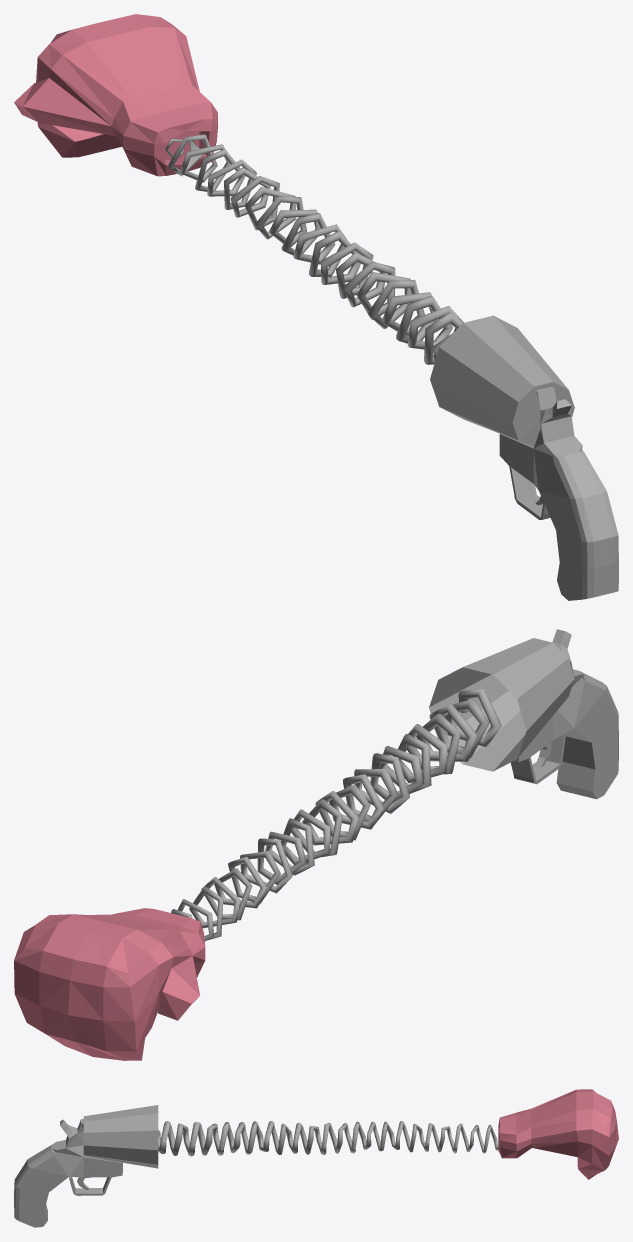
File: BoxingGlove.fbx
3 renders of one model, top to bottom at view 1: azimuth 30°, elevation 25°; view 2: azimuth 150°, elevation 25°; view 3: azimuth 270°, elevation 25°, orthographic. The views are drawn at different scales.
Parts seen in each view (by area): view 1: pCylinder1, pCube1, extrudedSurface2; view 2: pCube1, pCylinder1, extrudedSurface2; view 3: pCylinder1, pCube1, extrudedSurface2.
Boxes of the visible parts, x1,y1,x2,y2 form: pCylinder1: (430,315,618,600); pCube1: (14,14,217,176); extrudedSurface2: (165,134,463,364); pCube1: (14,908,205,1060); pCylinder1: (429,629,618,799); extrudedSurface2: (171,689,501,940); pCylinder1: (14,1105,158,1227); pCube1: (498,1089,618,1179); extrudedSurface2: (158,1121,498,1156).
Size of the model in its own units: 14.64 by 18.58 by 82.11.
